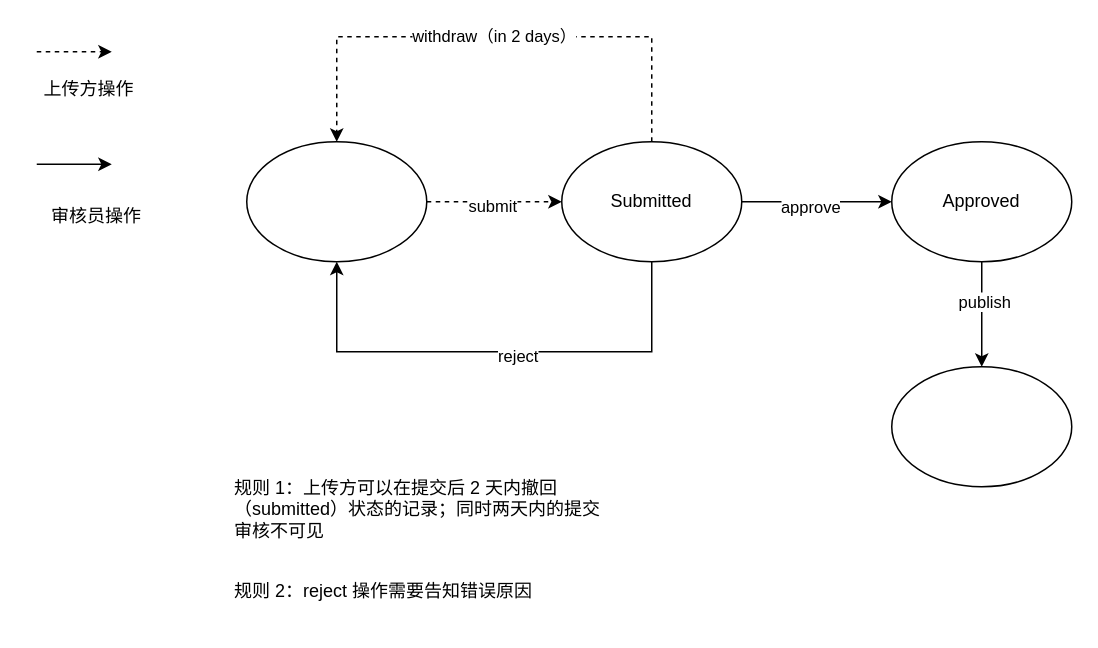
The diagram is 1098 pixels wide and 648 high, and some of its shapes have lost their labels. The shapes that lost their labels are listed below. From the top down, each one's centre as x and y in pixels, then its label:
At (x=336, y=201): "Draft".
At (x=981, y=426): "Published".
